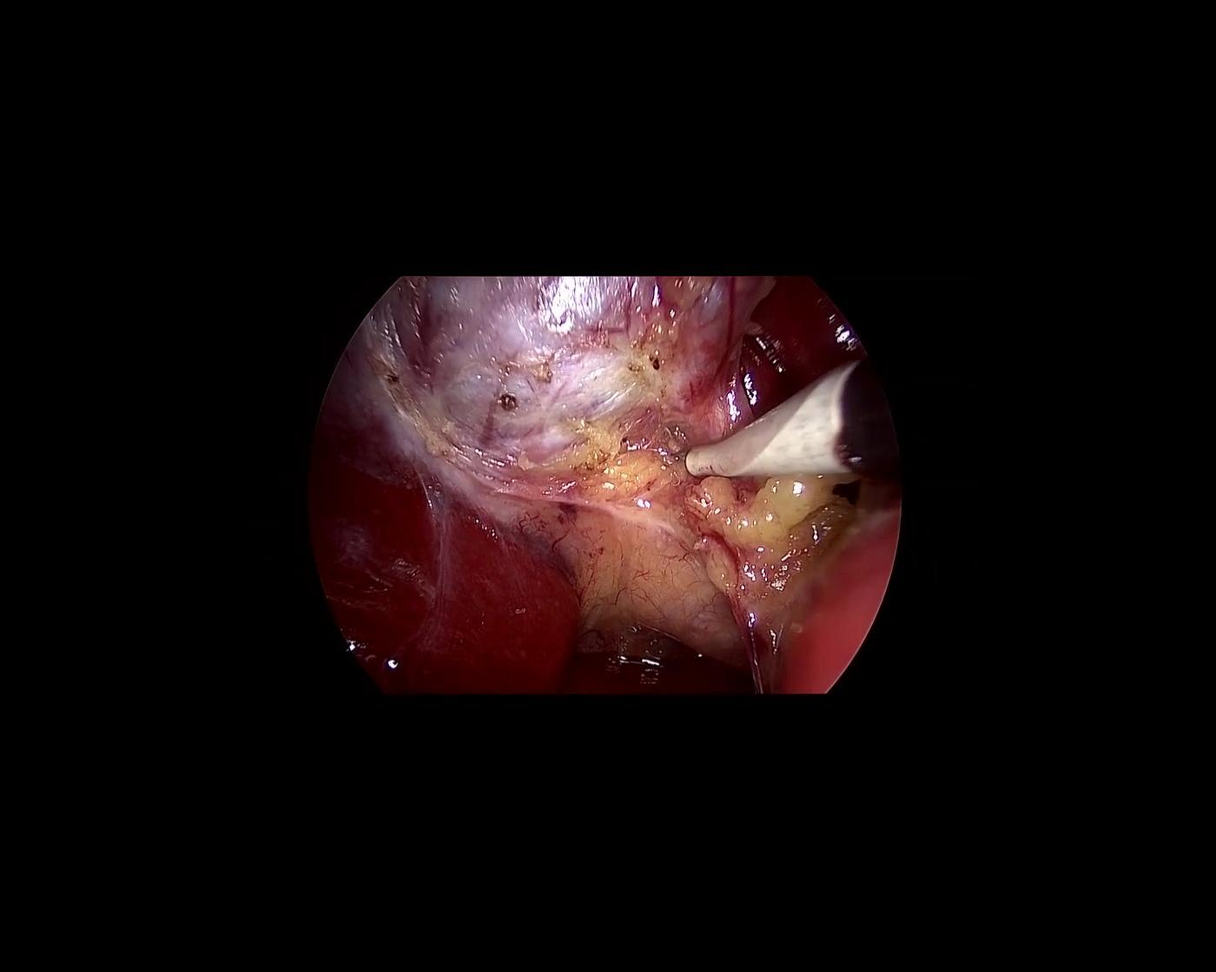Cautery: (670, 360, 898, 520)
Gallbladder: (319, 279, 774, 520)
Liver: (222, 429, 614, 766)
